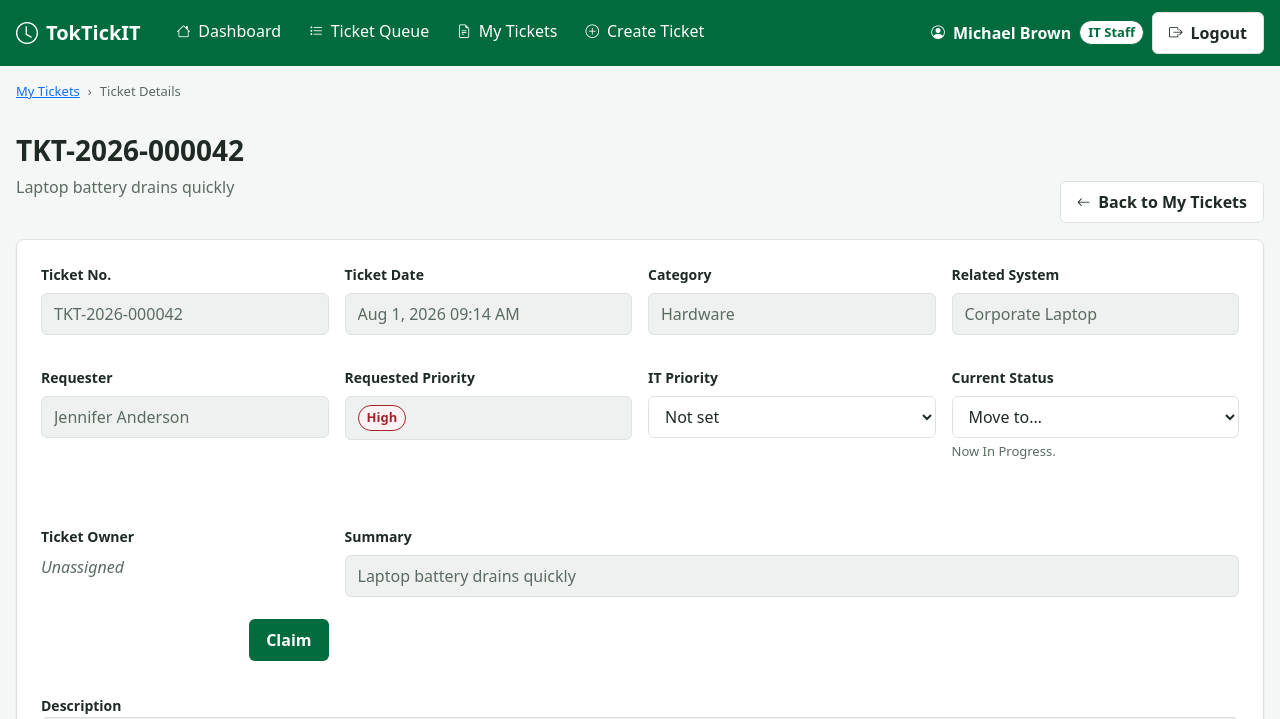
Test: UI-34 a met gate resolves and refreshes the Ticket › sends the summary and the version, closes, and shows the new status and summary
Select "Resolved" in the dropdown labelled "Current Status". click: (1095, 417)
box: left=952, top=396, right=1239, bottom=438
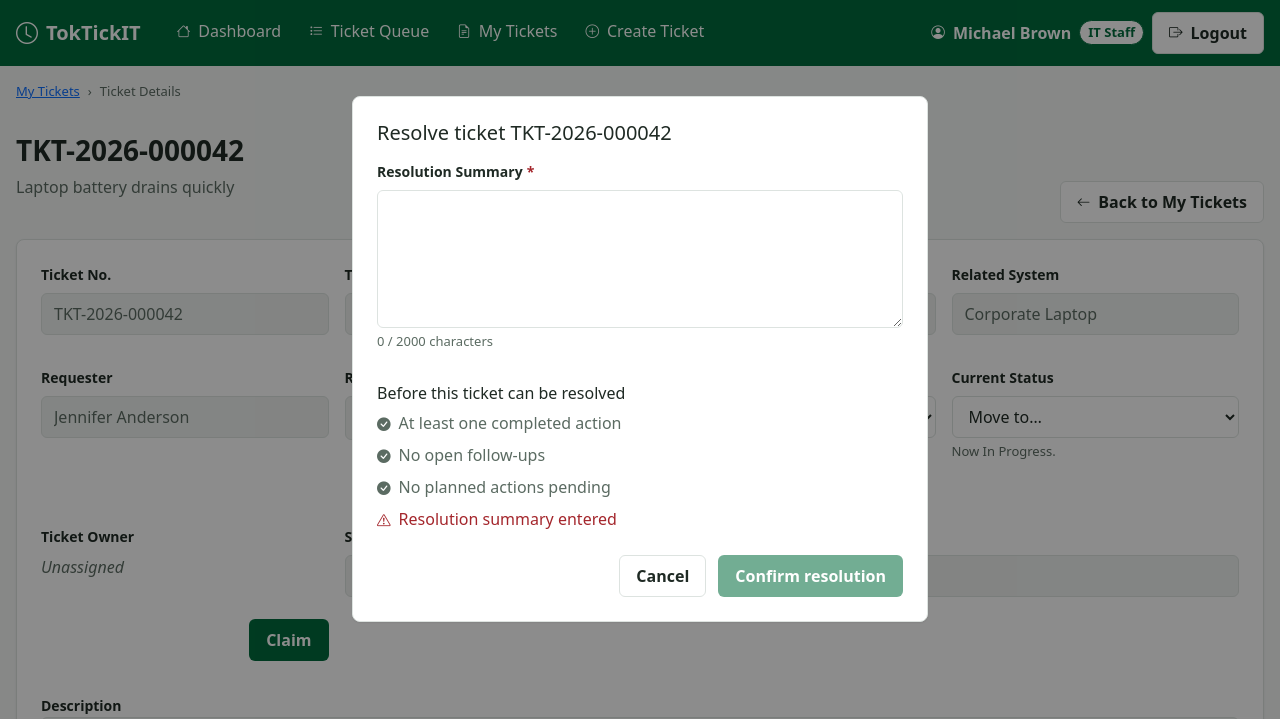
Type "Replaced the access point." into the text box labelled "Resolution Summary*". click: (640, 259)
box: left=377, top=190, right=903, bottom=328
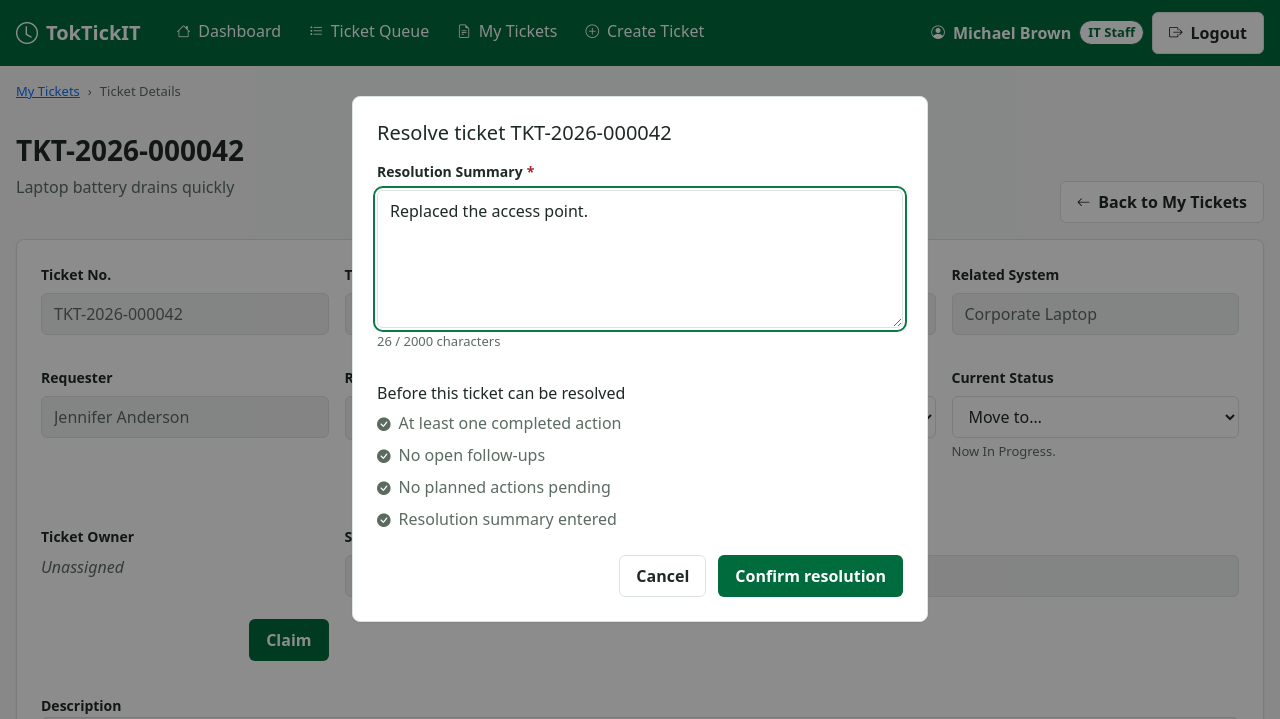
Click the button "Confirm resolution". click: (811, 576)
box: left=718, top=555, right=903, bottom=597
(page scrolled)
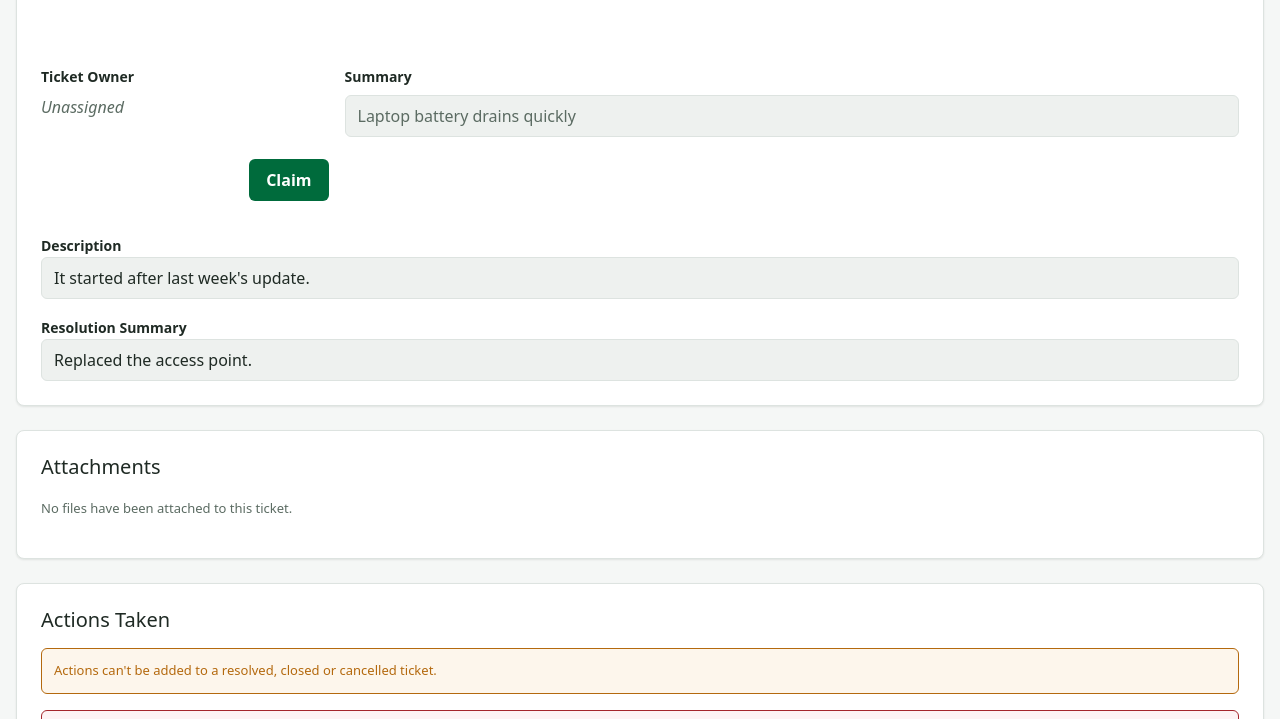
Expected: the dialog is gone
Expected: the text "Replaced the access point." is shown, left=41, top=339, right=1239, bottom=381
